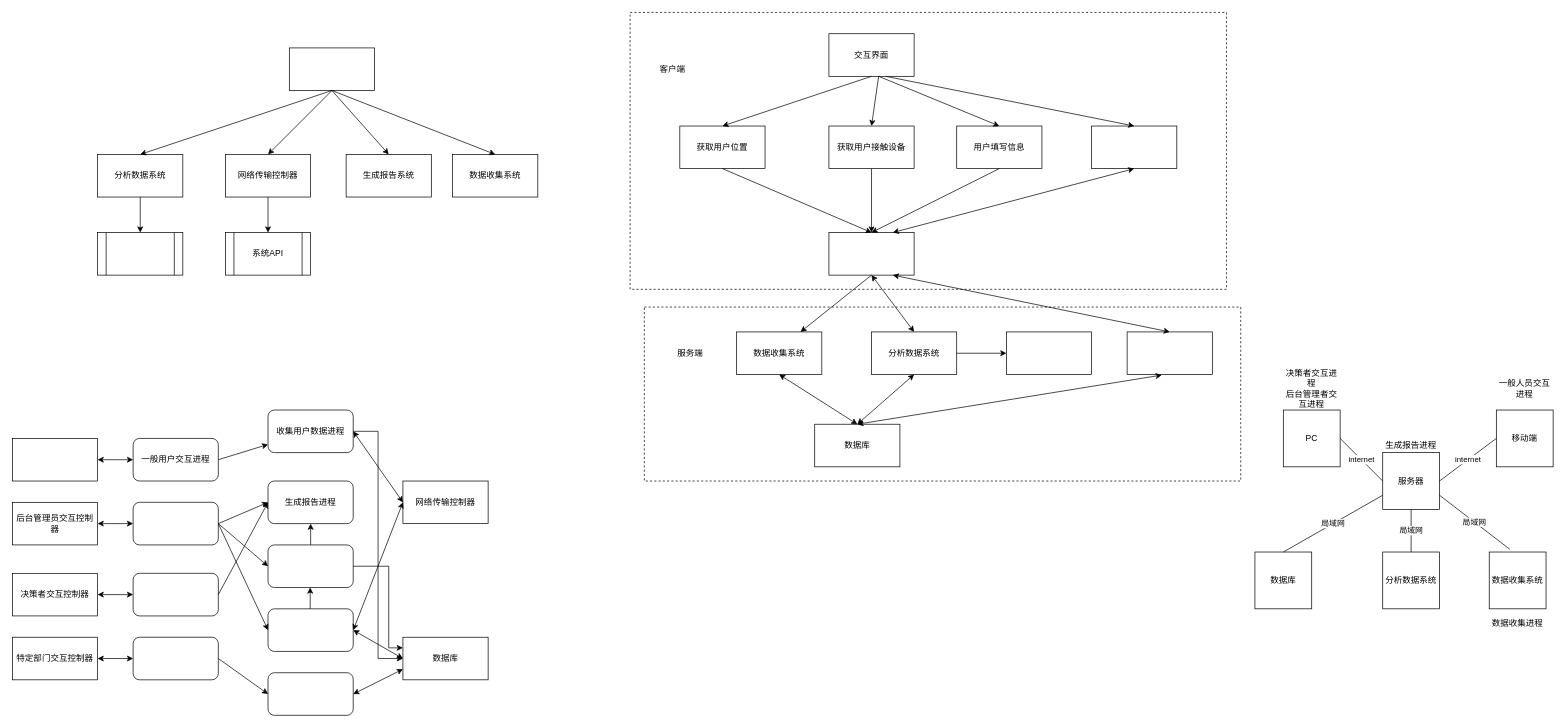
Some shapes in this 1566 by 728 pixel diagram are drawn without their labels. The shapes that lost their labels are listed below. From the top down, each one's centre as x and y in pixels, then its label:
the point at 332,69: 进程视图
the point at 1134,147: 查询请求
the point at 140,253: 第三方支持
the point at 871,253: 网络传输
the point at 1049,353: 报告生成
the point at 1169,353: 数据查询
the point at 55,459: 一般人员交互控制器
the point at 175,523: 后台管理员交互进程
the point at 310,566: 分析数据进程
the point at 175,594: 决策者交互进程
the point at 310,629: 收集防控机构数据进程
the point at 175,658: 特定部门交互进程
the point at 310,693: 特定数据查询进程
